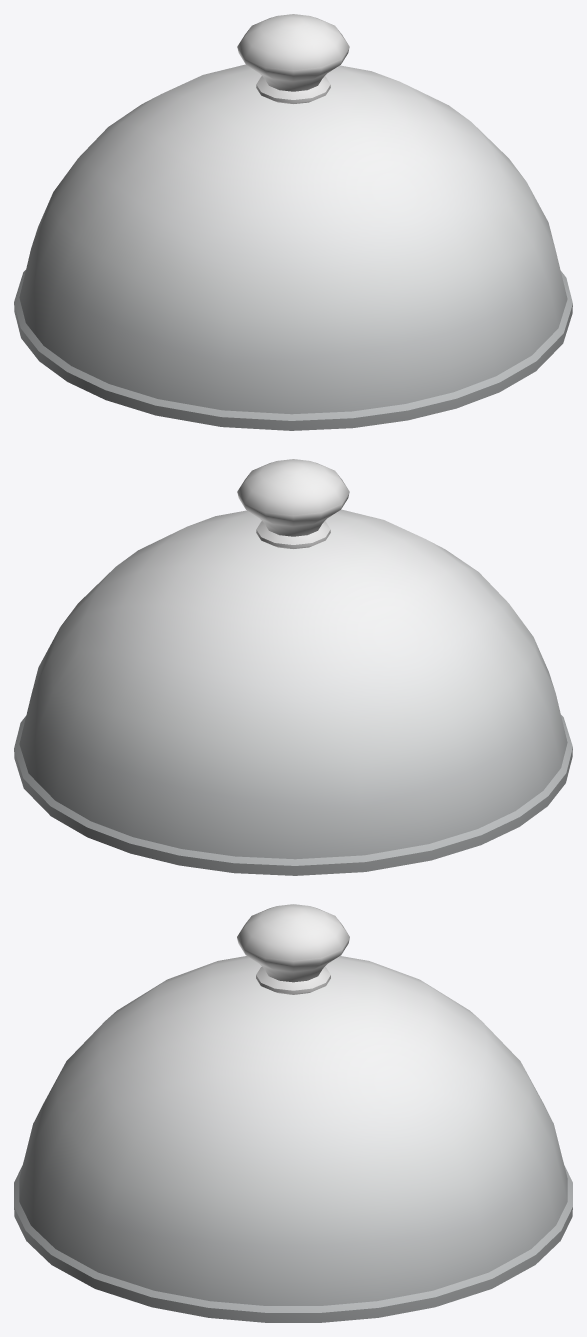
File: serving_lid_002.fbx
3 views of the same model, one above another, from view 1: azimuth 30°, elevation 25°; view 2: azimuth 150°, elevation 25°; view 3: azimuth 270°, elevation 25° (orthographic).
Parts seen in each view (by area): view 1: serving_lid_002; view 2: serving_lid_002; view 3: serving_lid_002.
Part boxes in pixels (bbox=[...]): serving_lid_002: bbox=[14, 14, 572, 430]; serving_lid_002: bbox=[14, 459, 572, 875]; serving_lid_002: bbox=[14, 904, 572, 1322].
Bounding box in the file's own units: 30.61 × 30.61 × 17.65.
